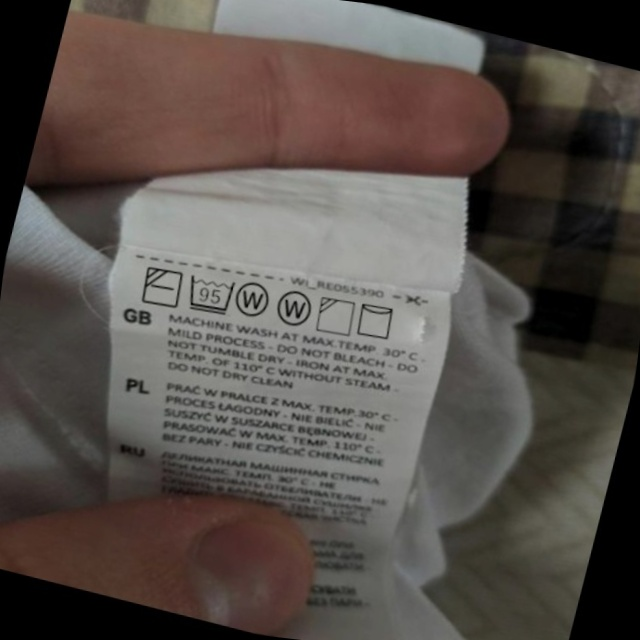95C: (180, 267, 241, 321)
dry_flat_in_shade: (135, 259, 188, 314)
line_dry: (350, 295, 402, 346)
shade_dry: (310, 290, 361, 342)
wet_clean: (270, 283, 319, 335), (230, 273, 278, 324)
